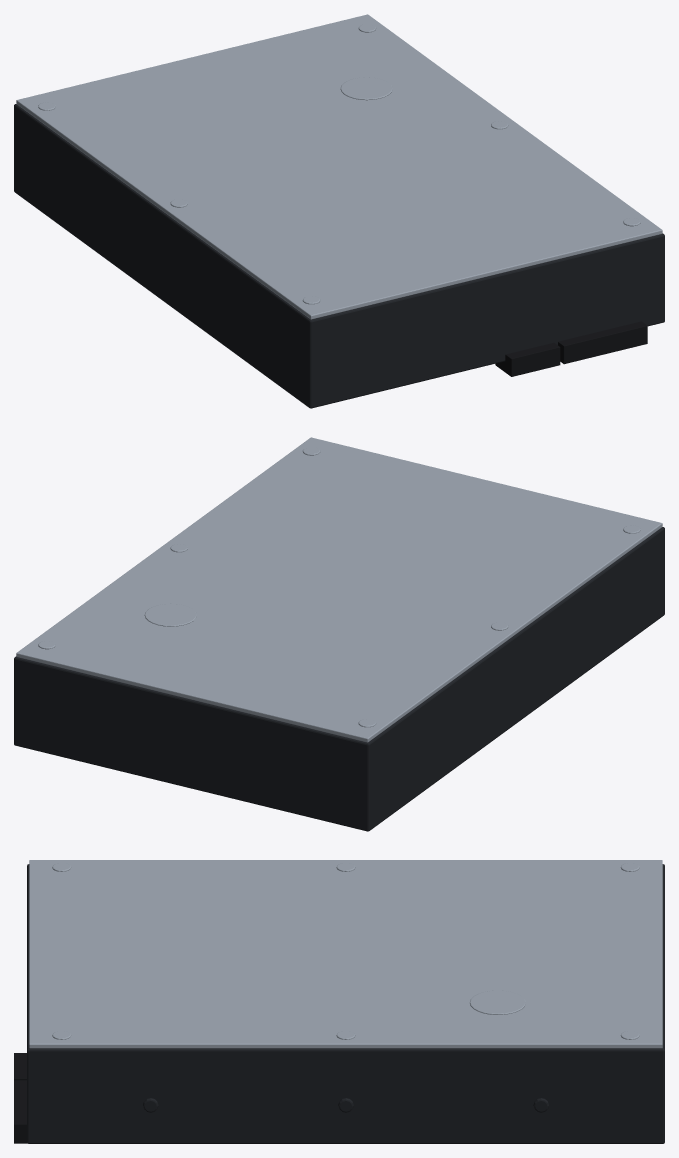
The model's file is storage-hdd.lod0.glb.
3 views of the same model, one above another, from view 1: azimuth 30°, elevation 25°; view 2: azimuth 150°, elevation 25°; view 3: azimuth 270°, elevation 25° (orthographic). The views are drawn at different scales.
Visible parts, largest first — view 1: P02_top_cover_plate, P01_chassis_casting, P09_sata_connectors; view 2: P02_top_cover_plate, P01_chassis_casting; view 3: P02_top_cover_plate, P01_chassis_casting, P09_sata_connectors.
Part boxes in pixels (<box>): P02_top_cover_plate: <box>16,14,662,319</box>; P01_chassis_casting: <box>14,104,664,408</box>; P09_sata_connectors: <box>495,321,647,376</box>; P02_top_cover_plate: <box>16,437,662,742</box>; P01_chassis_casting: <box>14,527,664,831</box>; P02_top_cover_plate: <box>29,860,662,1048</box>; P01_chassis_casting: <box>27,864,664,1143</box>; P09_sata_connectors: <box>14,1053,27,1143</box>.
Bounding box in the file's own units: 102 × 28.65 × 150.
